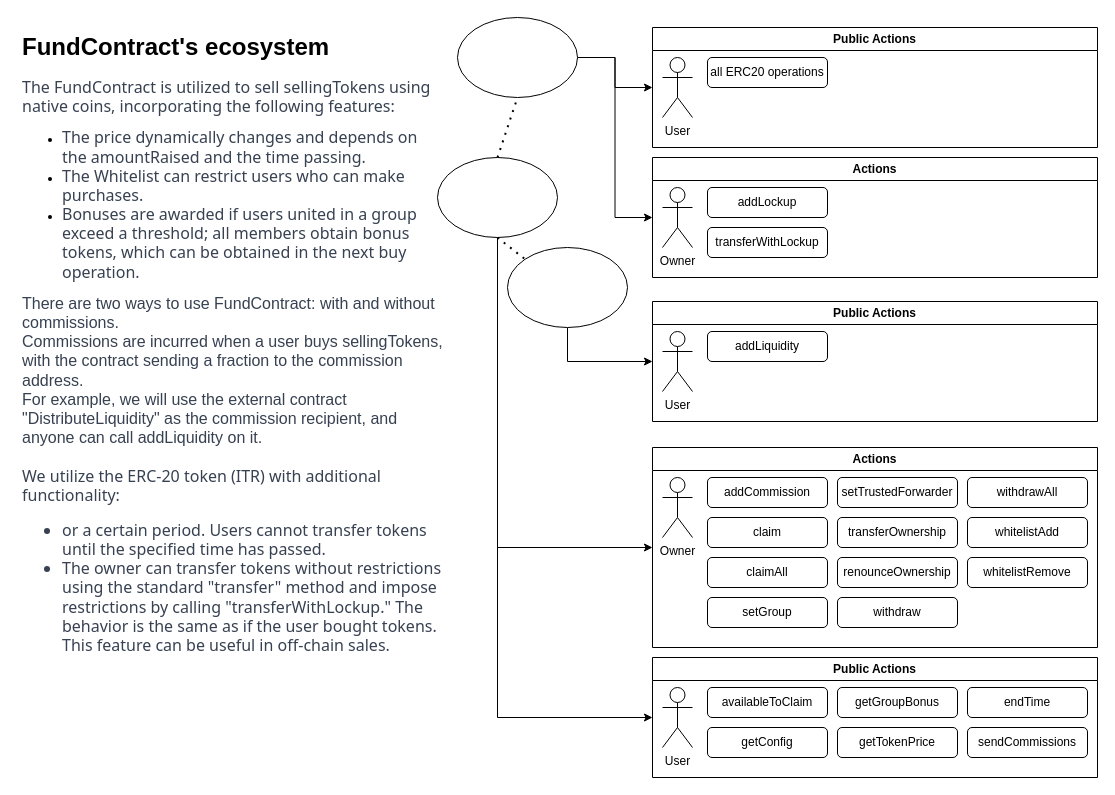
This 1115x795 diagram has some shape labels left out. The centre of each missing label's shape, as x and y in pixels:
"DistributeLiquidity INTER/WBNB" goes at [567,287].
"FundContract ITR/BNB(coins)" goes at [497,197].
"ITR (ERC20)" goes at [517,57].
